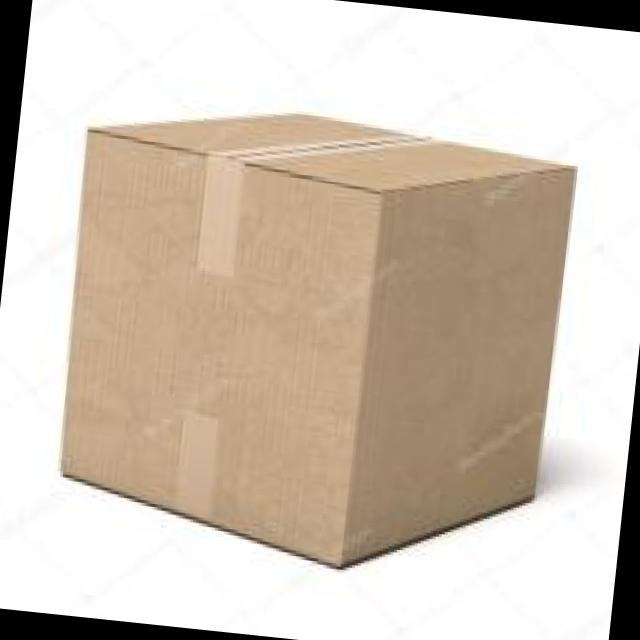box: (55, 111, 581, 562)
